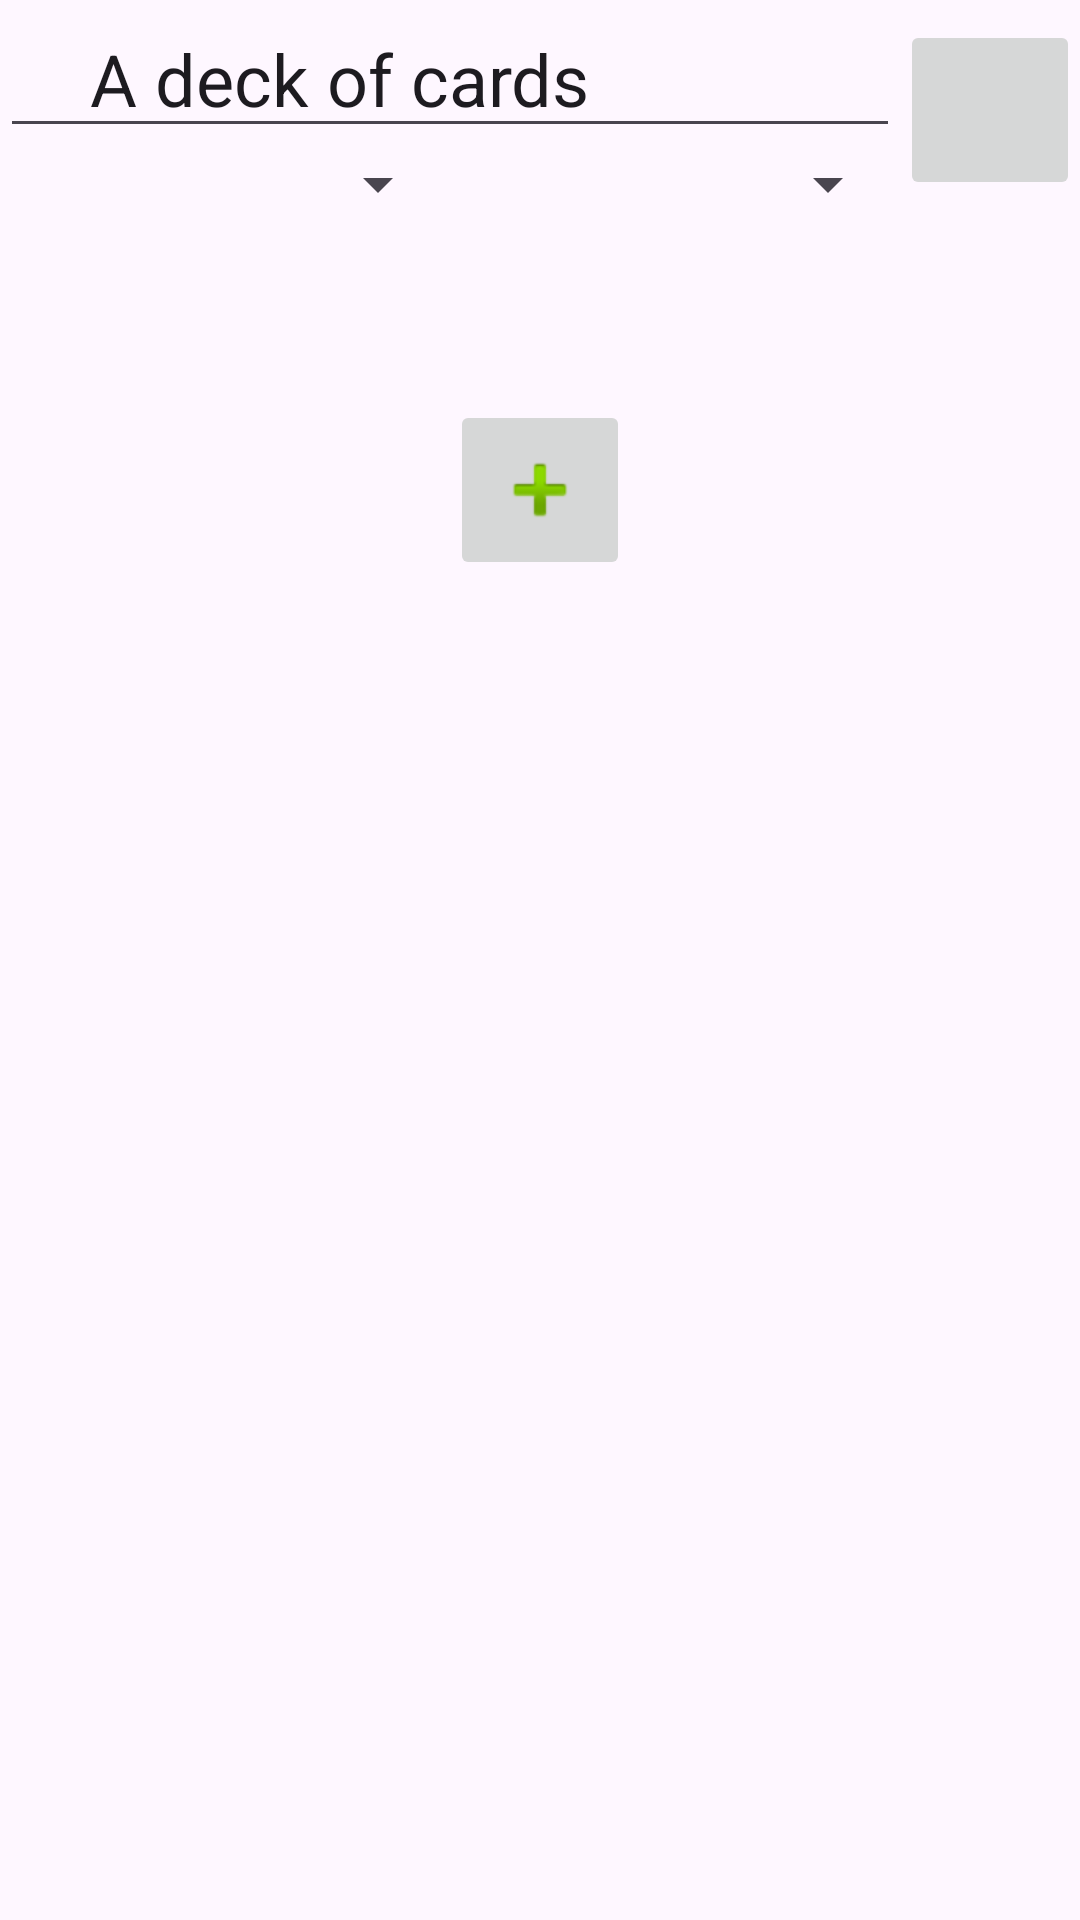

Icon bounding boxes for this 1080*1920 phone screenshot, format (x1, y1, x2, y2):
A button that will add a new card: (462, 418, 618, 562)
